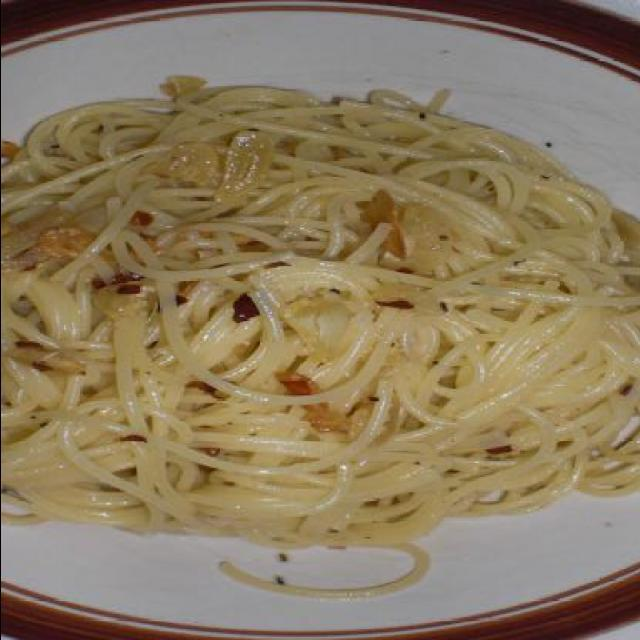Oil pasta: (2, 66, 636, 614)
